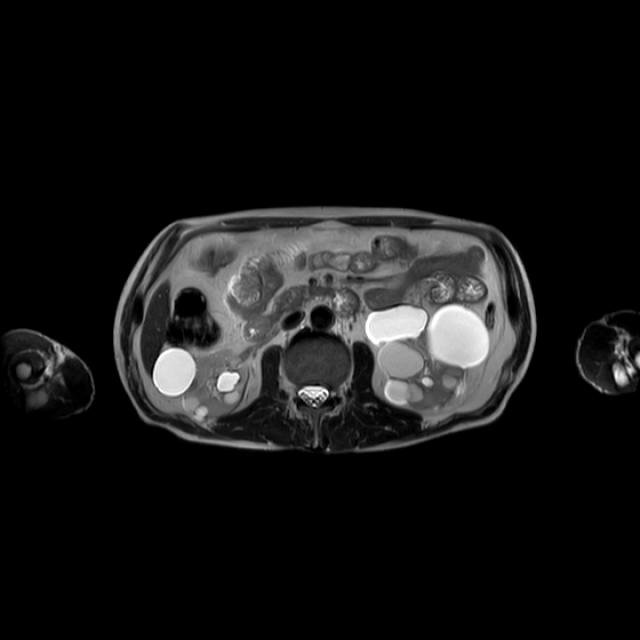sag: (154, 348, 248, 419)
sol: (368, 304, 489, 411)
